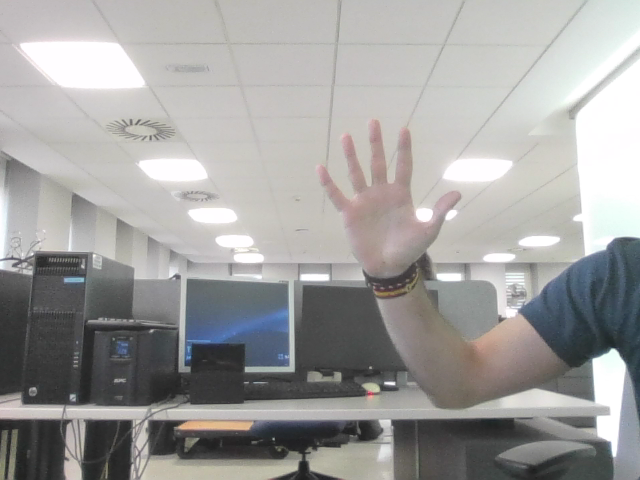Mano Abierta: (327, 131, 446, 246)
